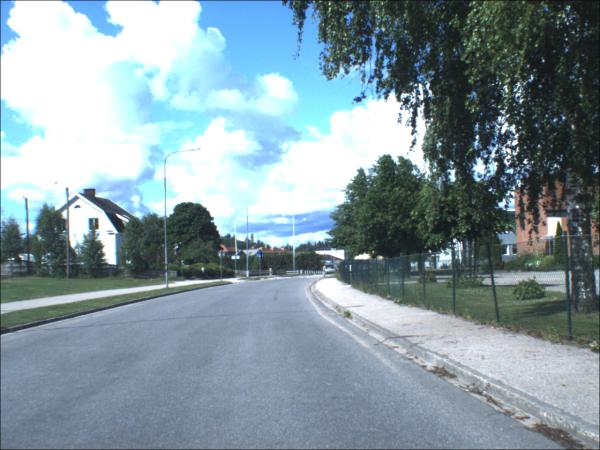PEDESTRIAN_CROSSING: (259, 253, 265, 260), (333, 249, 339, 256)
